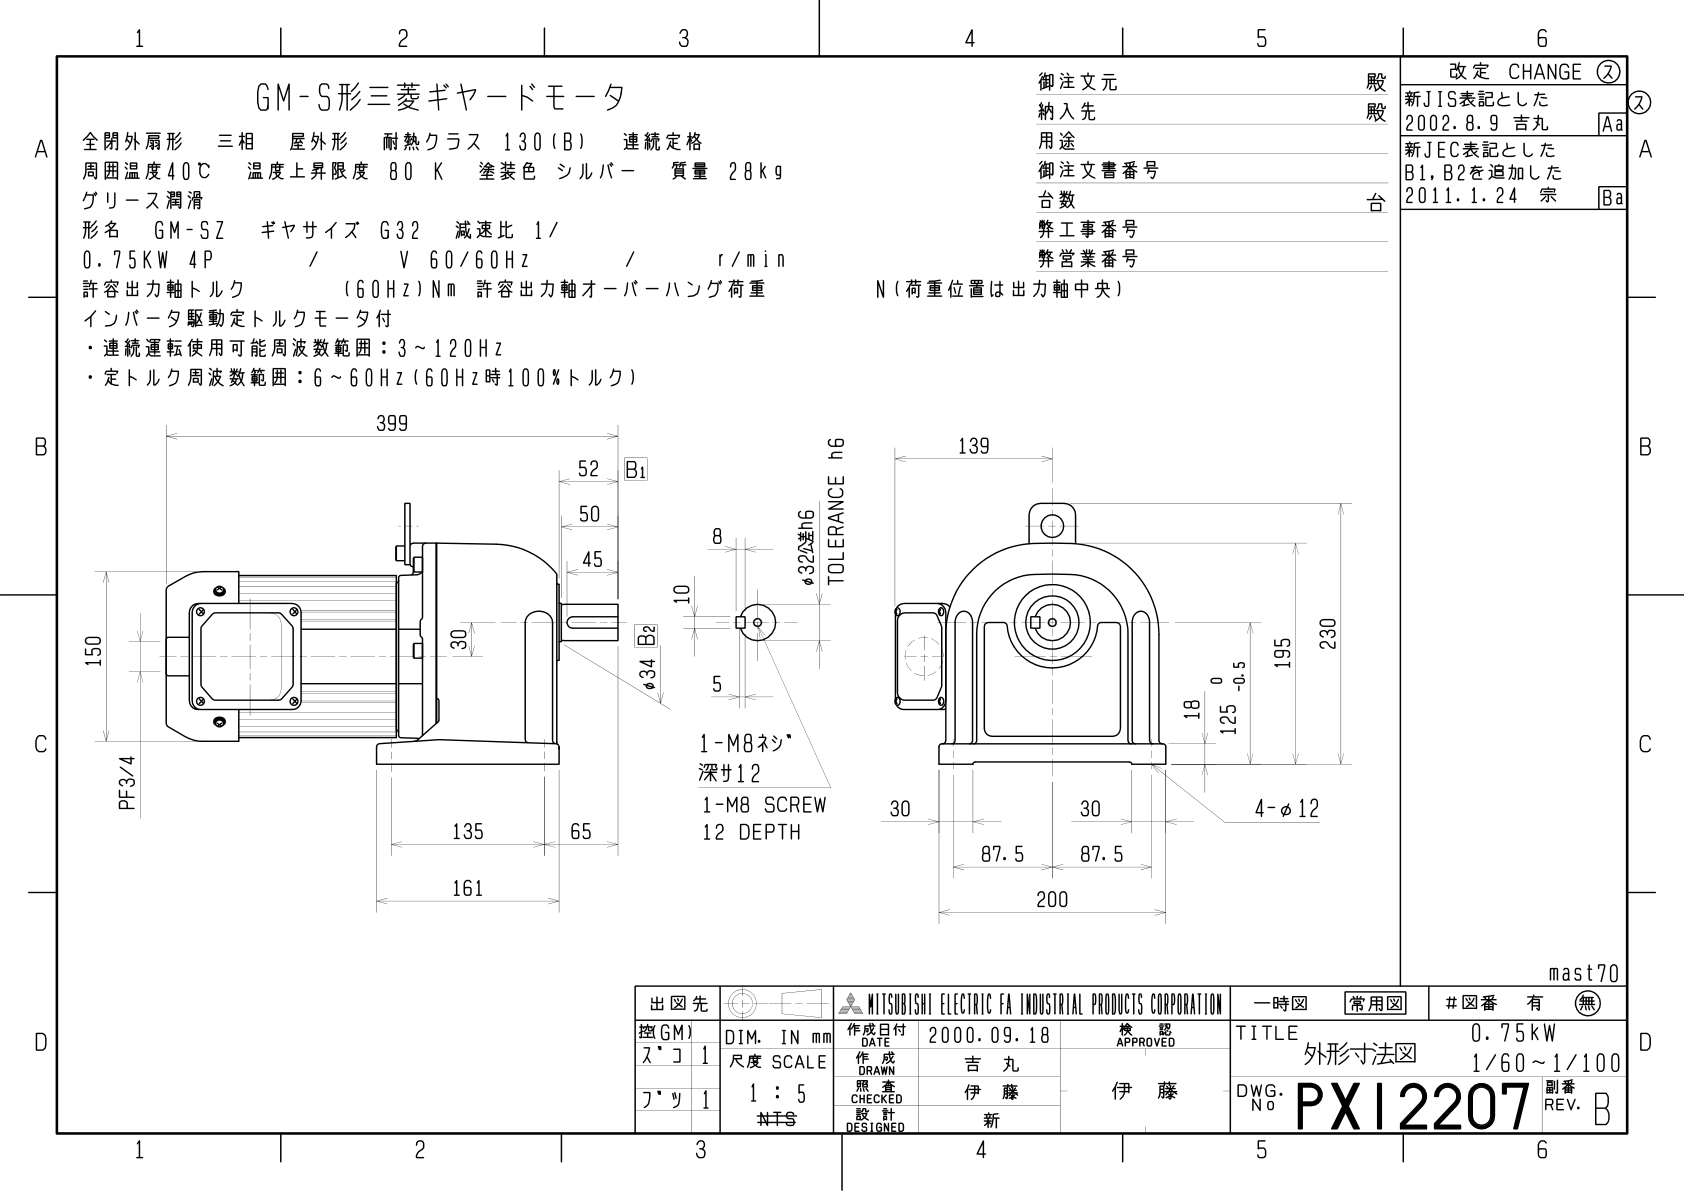GM_S_インバタ屋外＿三相_脚: (12, 13, 1684, 1191)
